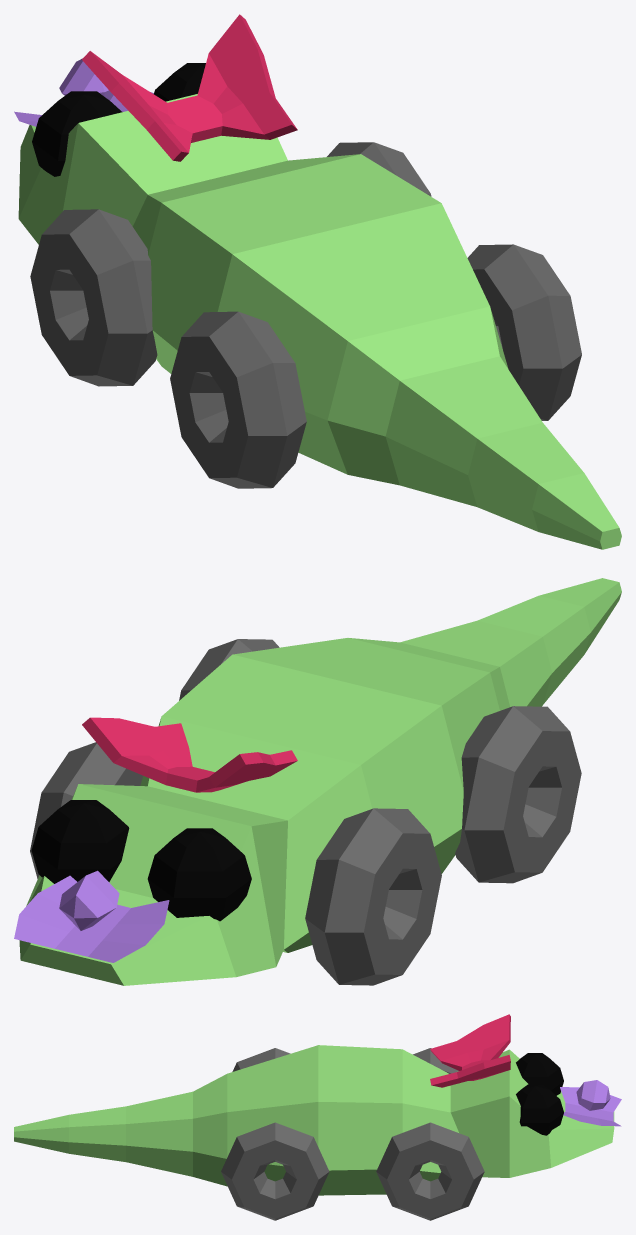
Rendered from baby_lizard.glb.
3 views of the same model, one above another, from view 1: azimuth 30°, elevation 25°; view 2: azimuth 150°, elevation 25°; view 3: azimuth 270°, elevation 25° (orthographic). The views are drawn at different scales.
Visible parts, largest first — view 1: Body.001, Wheels.001, Plane.002, Eyes.001, Sphere; view 2: Body.001, Wheels.001, Eyes.001, Plane.002, Plane.003, Sphere; view 3: Body.001, Wheels.001, Plane.002, Eyes.001, Plane.003, Sphere.
Part boxes in pixels (x1,y1,x2,y2): Body.001: (18,94,621,549); Wheels.001: (30,142,581,488); Plane.002: (82,14,297,161); Eyes.001: (32,63,205,176); Sphere: (59,58,113,100); Body.001: (19,578,621,985); Wheels.001: (30,639,581,985); Eyes.001: (31,800,251,921); Plane.002: (82,717,297,792); Plane.003: (14,875,169,962); Sphere: (59,870,119,930); Body.001: (14,1045,614,1195); Wheels.001: (221,1048,484,1220); Plane.002: (430,1014,510,1087); Eyes.001: (516,1053,563,1135); Plane.003: (560,1087,621,1126); Sphere: (576,1080,610,1110).
Size of the model in its own units: 3.94 by 3.03 by 11.2.
